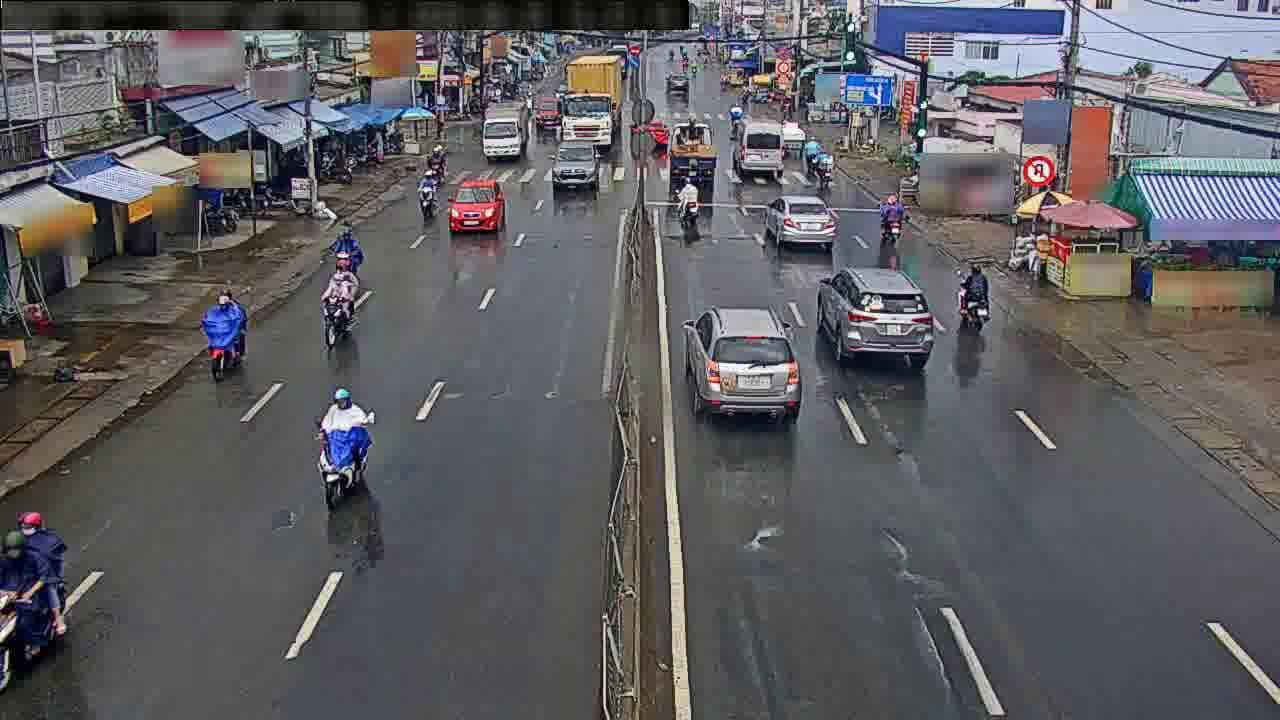14: (733, 116, 788, 178)
8: (562, 50, 625, 146), (669, 117, 715, 186)
container: (677, 307, 805, 423), (813, 262, 934, 363), (760, 193, 837, 246), (448, 176, 502, 231), (477, 102, 529, 158), (550, 137, 601, 191)
motorbike: (0, 507, 66, 690), (310, 383, 377, 502), (197, 293, 252, 373), (315, 263, 361, 345), (952, 262, 999, 340), (325, 214, 370, 289), (665, 178, 710, 229), (408, 169, 442, 221), (875, 190, 909, 241), (425, 134, 449, 183)
